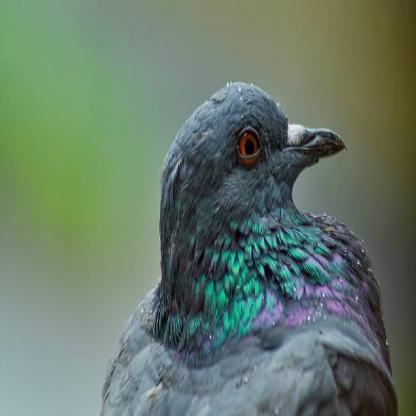Rock Pigeon: (101, 82, 384, 413)
